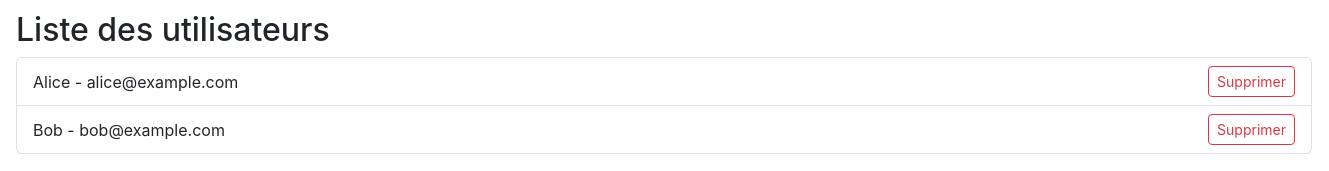
Test case: supprime un utilisateur avec le bouton Supprimer
The image size is (1329, 171).
Check: the text "Alice - alice@example.com" is shown, box [33,70,238,94]
Click the button "Supprimer" in the row of "alice@example.com" at (1252, 82), box [1208,66,1295,97]
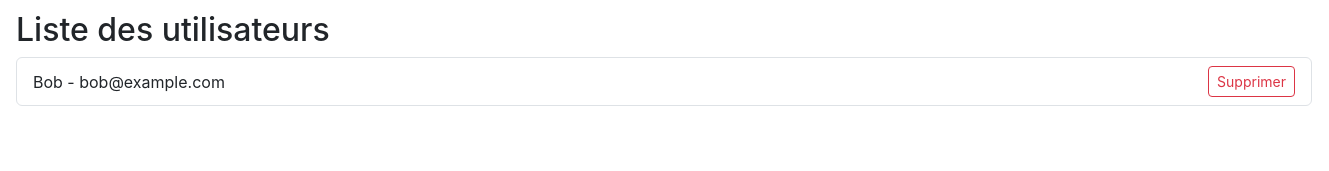
Check: the text "Alice - alice@example.com" is gone
